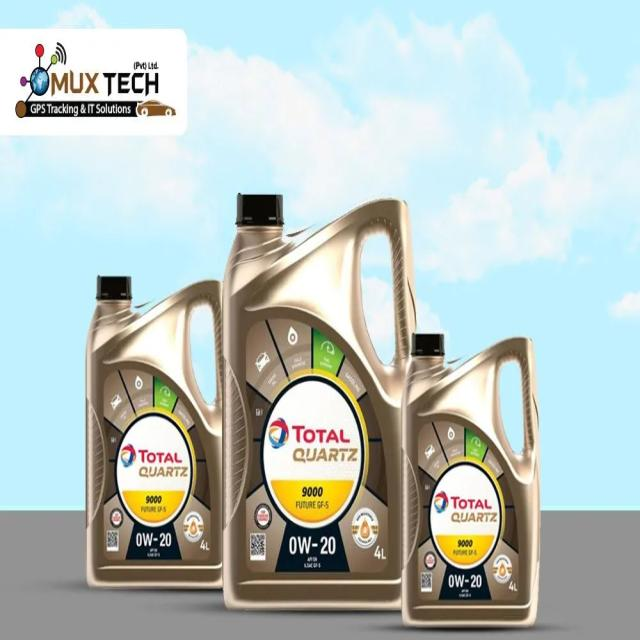motor_oil: (224, 190, 408, 613), (82, 266, 218, 592), (404, 331, 546, 633)
